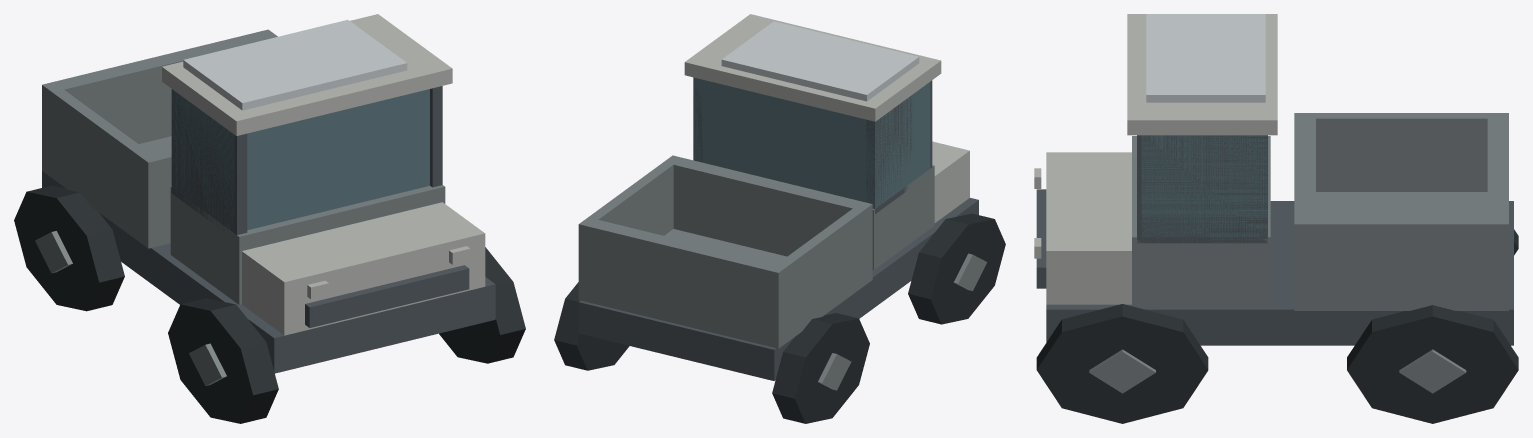
File: pickup_truck.glb
3 renders of one model, left to right at view 1: azimuth 30°, elevation 25°; view 2: azimuth 150°, elevation 25°; view 3: azimuth 270°, elevation 25°, orthographic. The views are drawn at different scales.
Parts seen in each view (by area): view 1: pickup_truck; view 2: pickup_truck; view 3: pickup_truck.
Boxes of the visible parts, bbox=[...] form: pickup_truck: bbox=[14, 14, 525, 423]; pickup_truck: bbox=[554, 14, 1005, 423]; pickup_truck: bbox=[1034, 14, 1518, 423].
Bounding box in the file's own units: 1.31 × 1.3 × 1.92.
